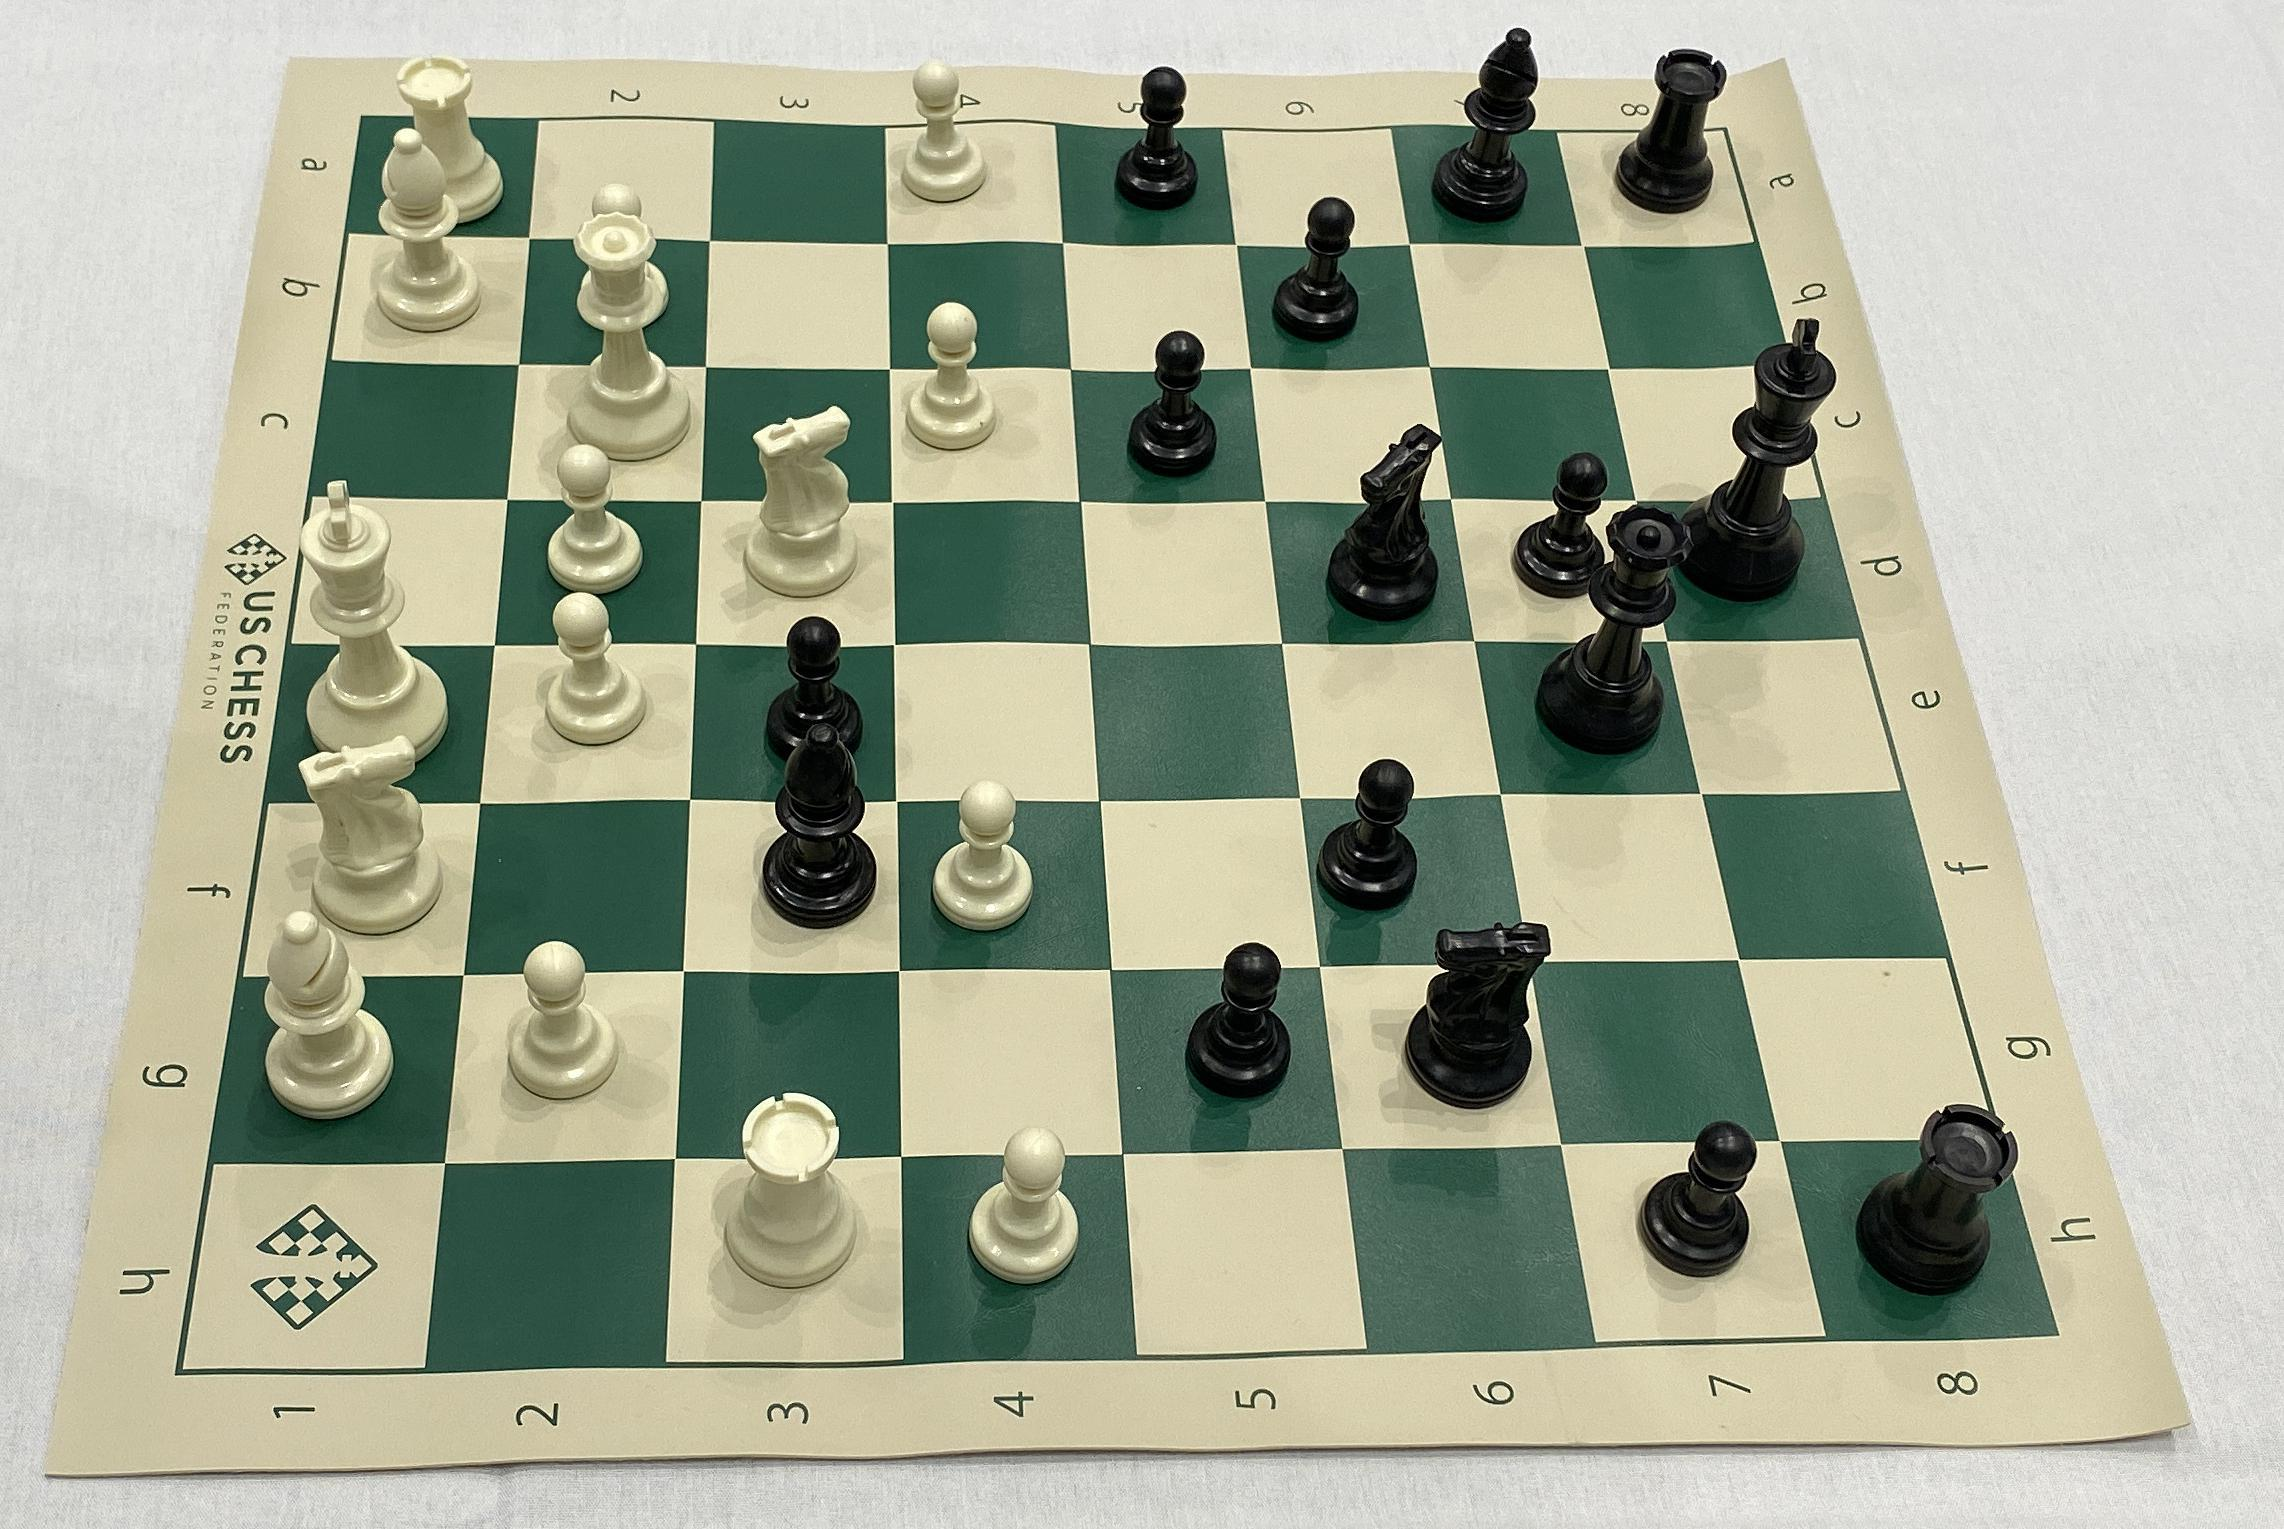black-bishop: (745, 717, 890, 935), (1426, 14, 1545, 229)
black-king: (1682, 309, 1846, 602)
black-knight: (1400, 908, 1551, 1114), (1319, 415, 1448, 633)
black-pawn: (1619, 1114, 1759, 1287), (1298, 747, 1433, 923), (1184, 930, 1298, 1106), (1122, 319, 1230, 488), (1104, 60, 1213, 218), (757, 611, 863, 771), (1510, 447, 1609, 611), (1269, 191, 1366, 353)
black-queen: (1532, 507, 1689, 780)
black-rook: (1842, 1094, 2021, 1299), (1609, 39, 1740, 220)
white-bishop: (249, 910, 404, 1121), (362, 126, 490, 338)
white-king: (287, 474, 452, 768)
white-knight: (287, 734, 457, 939), (739, 404, 868, 602)
white-pawn: (952, 1121, 1083, 1300), (498, 935, 628, 1109), (530, 580, 653, 753), (931, 770, 1041, 940), (899, 292, 1010, 457), (542, 439, 652, 602), (885, 51, 993, 212), (570, 179, 679, 329)
white-queen: (549, 212, 704, 468)
white-rook: (715, 1080, 863, 1300), (391, 48, 507, 227)
